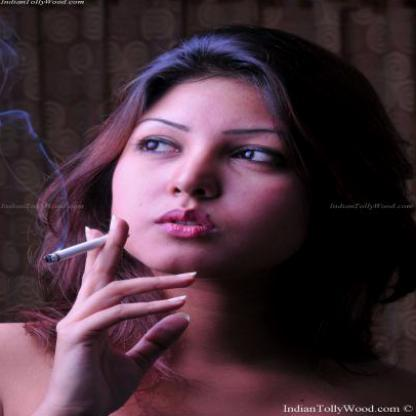cigarette: (46, 232, 116, 266)
person: (64, 28, 416, 416)
